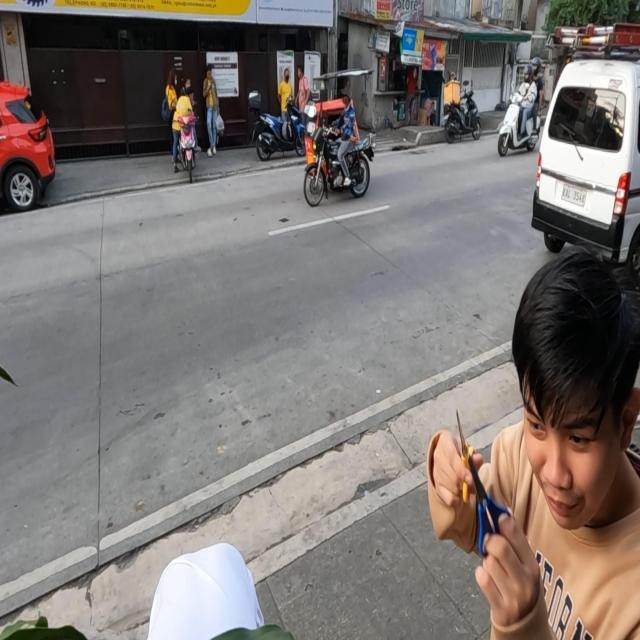scissor: (467, 451, 513, 563), (456, 405, 476, 506)
